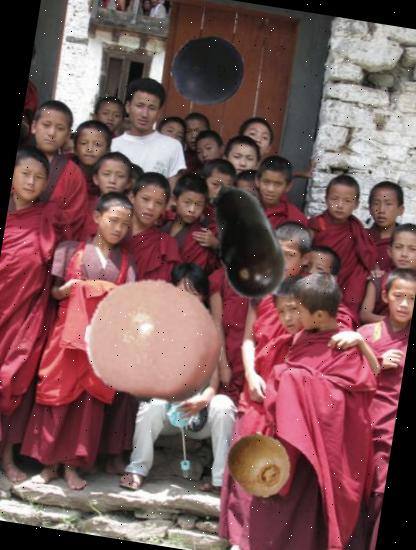Clementine: (75, 262, 234, 422)
Eggplant: (172, 166, 318, 312)
Grape: (166, 29, 250, 114)
Kiwi: (220, 427, 296, 503)
